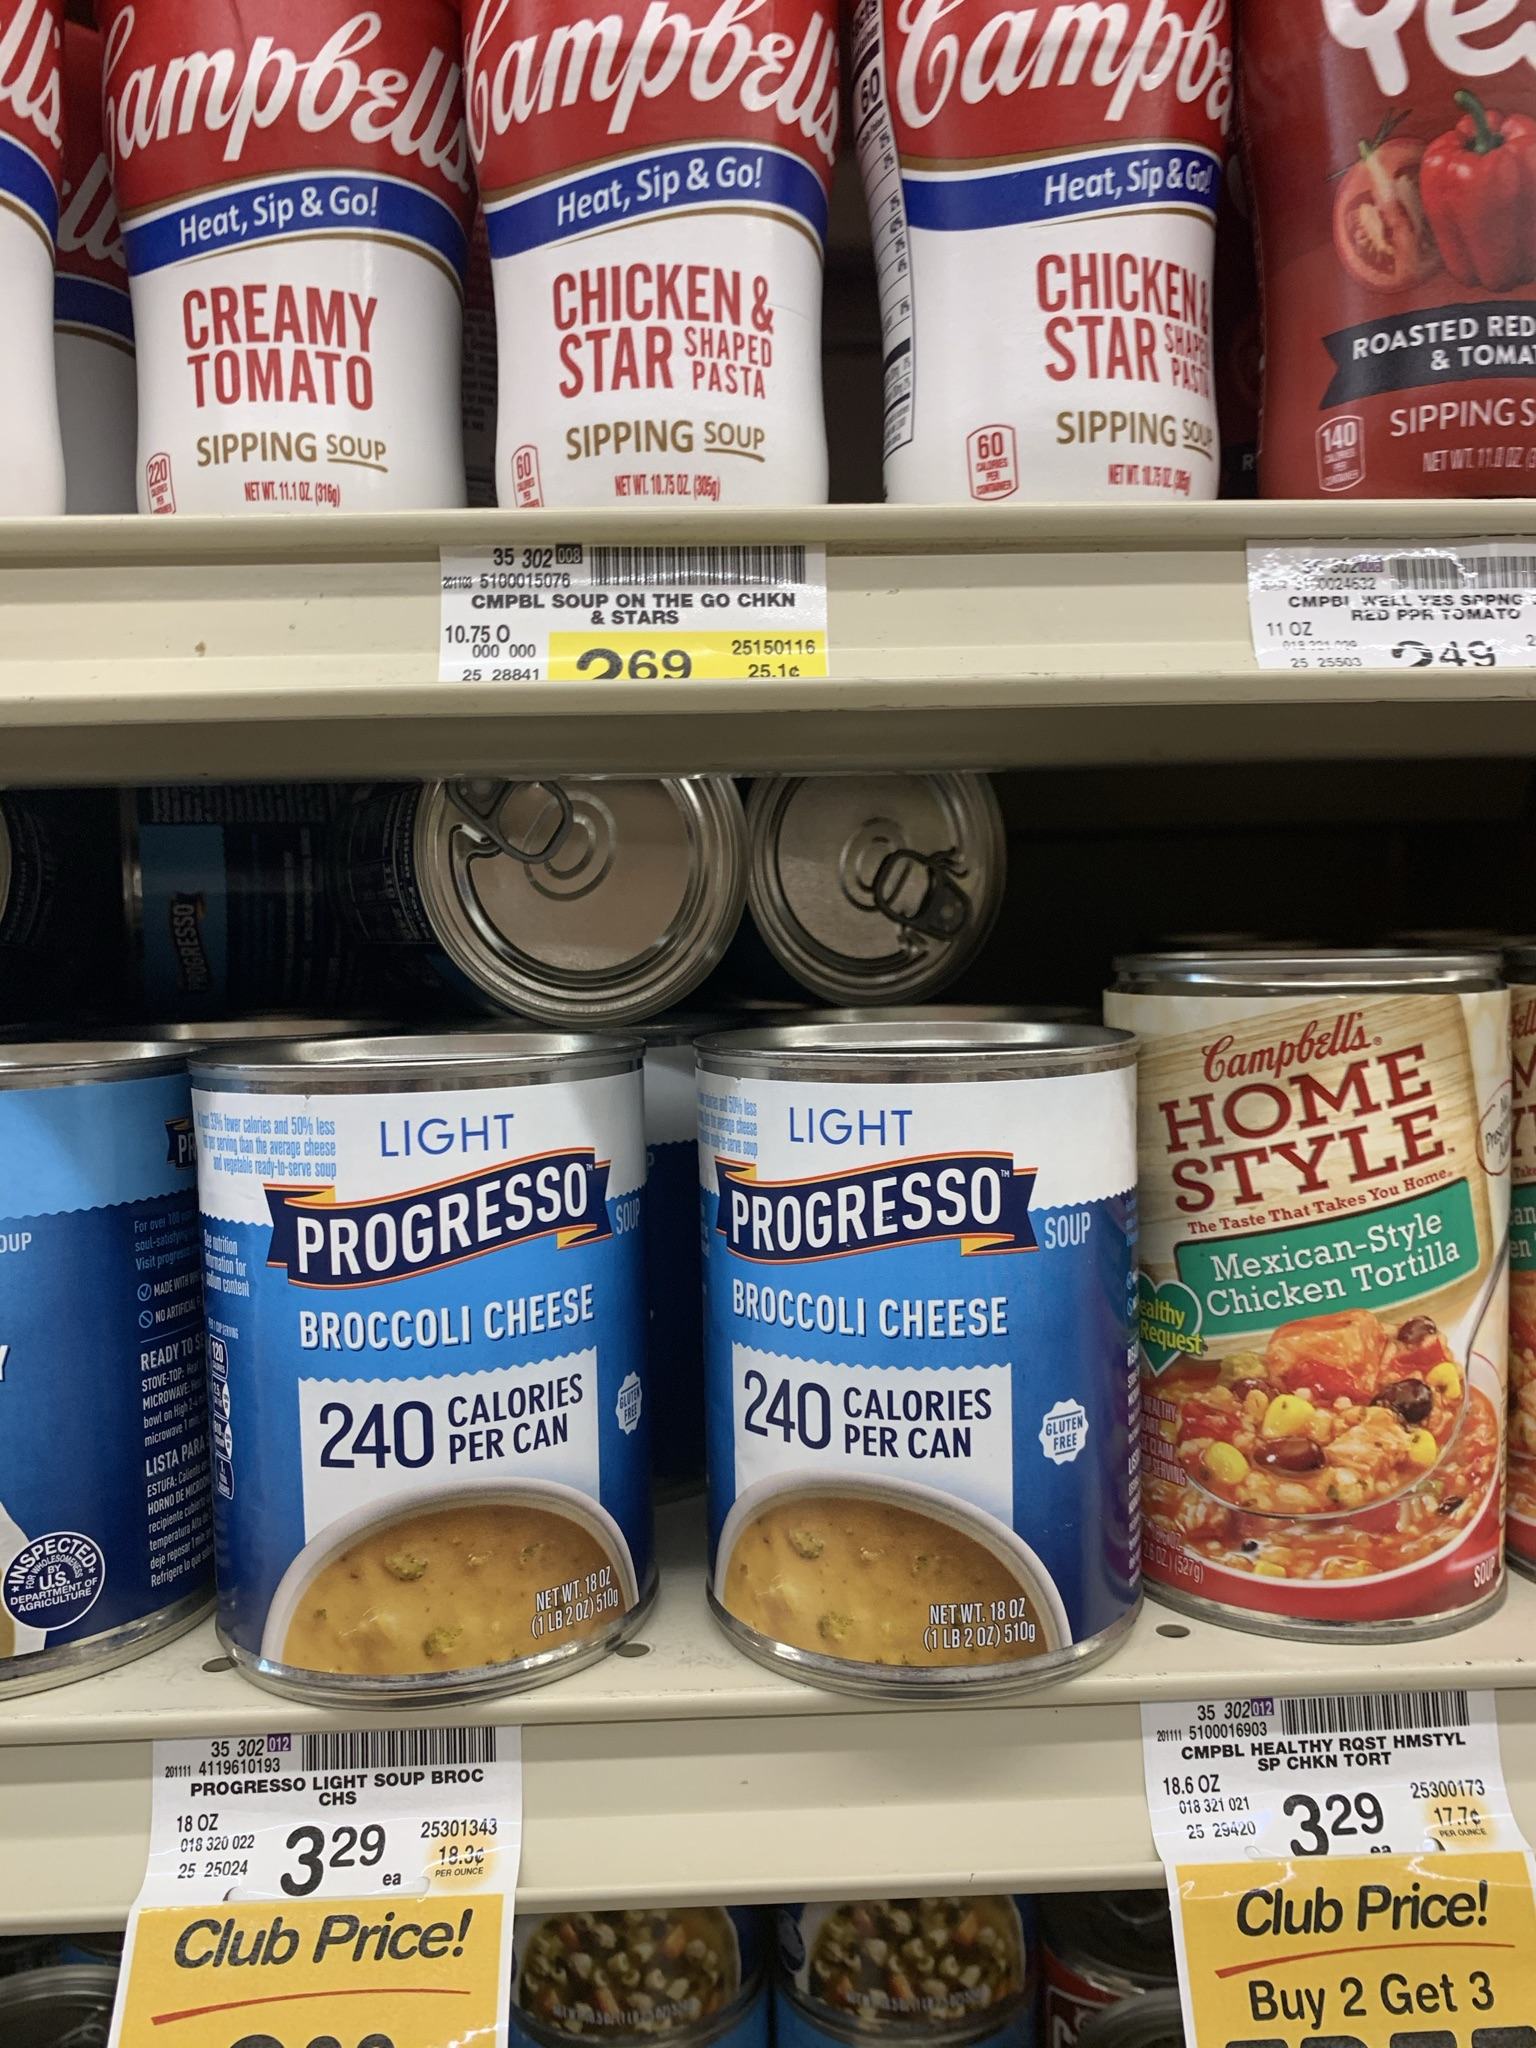can: (700, 1042, 1131, 1650), (234, 1059, 608, 1667), (1163, 993, 1497, 1598), (852, 2, 1236, 502), (98, 2, 471, 516), (463, 2, 844, 503)
